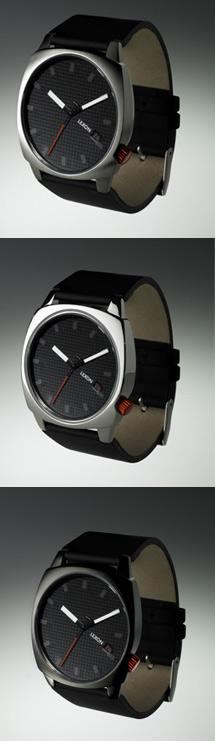watch: (19, 297, 137, 435), (29, 552, 145, 691), (17, 45, 132, 179)
